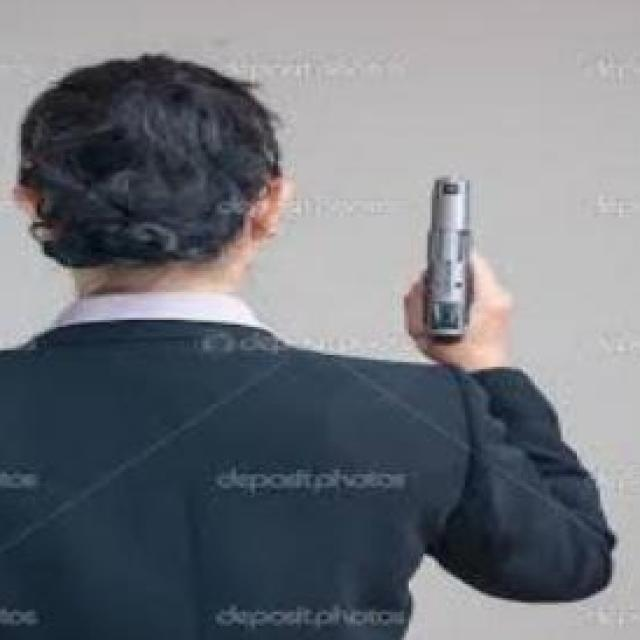pistol: (425, 178, 479, 342)
